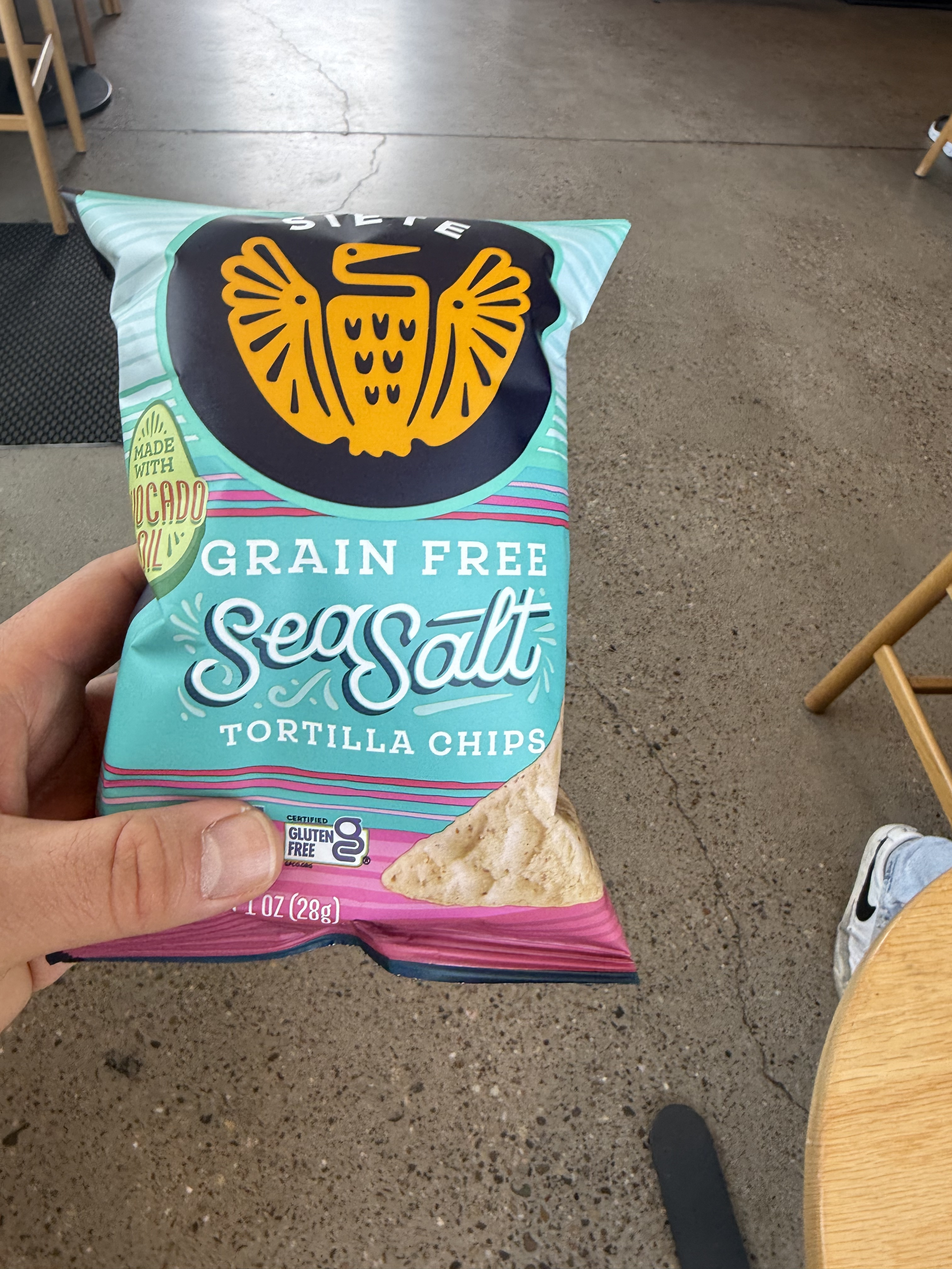sea_salt: (71, 172, 626, 970)
